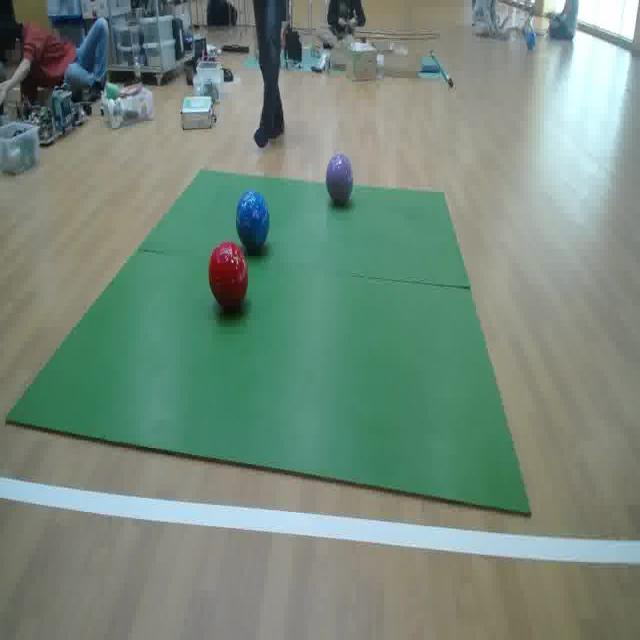blue_ball: (237, 188, 269, 252)
purple_ball: (326, 151, 354, 207)
red_ball: (208, 242, 248, 311)
